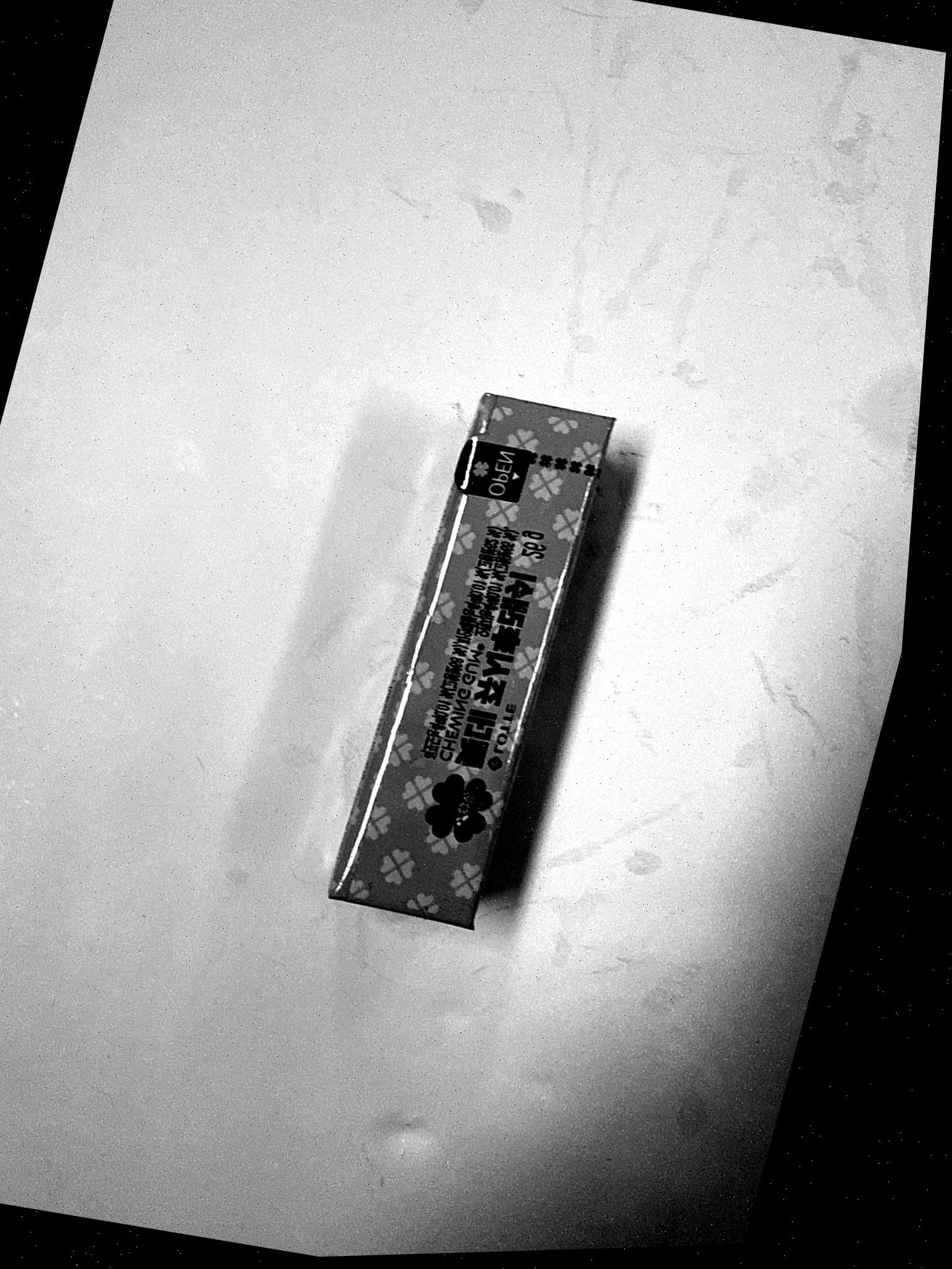gum_yellow: (327, 394, 612, 930)
